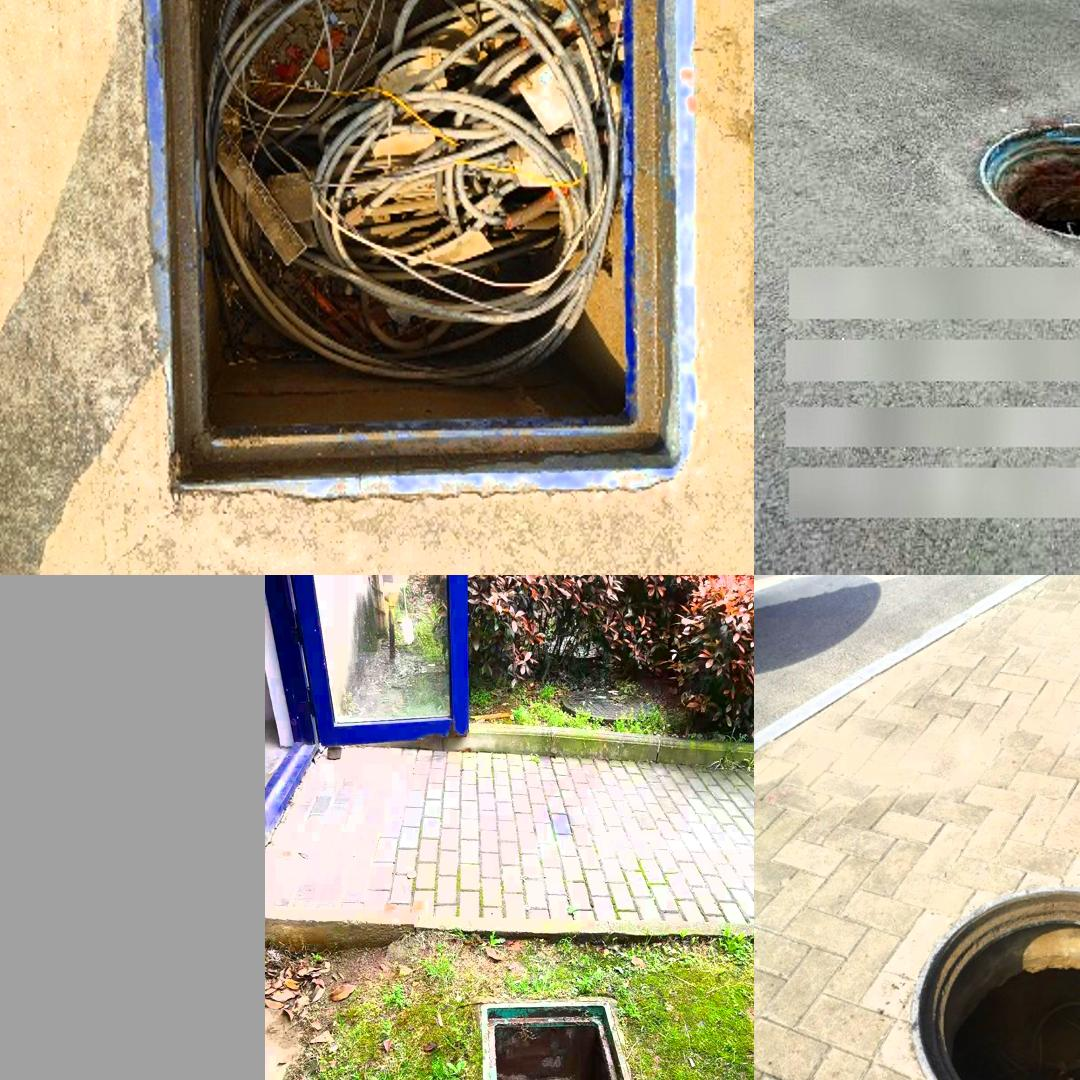lose: (137, 0, 693, 500), (911, 885, 1080, 1080), (477, 997, 660, 1080), (977, 121, 1080, 244)
